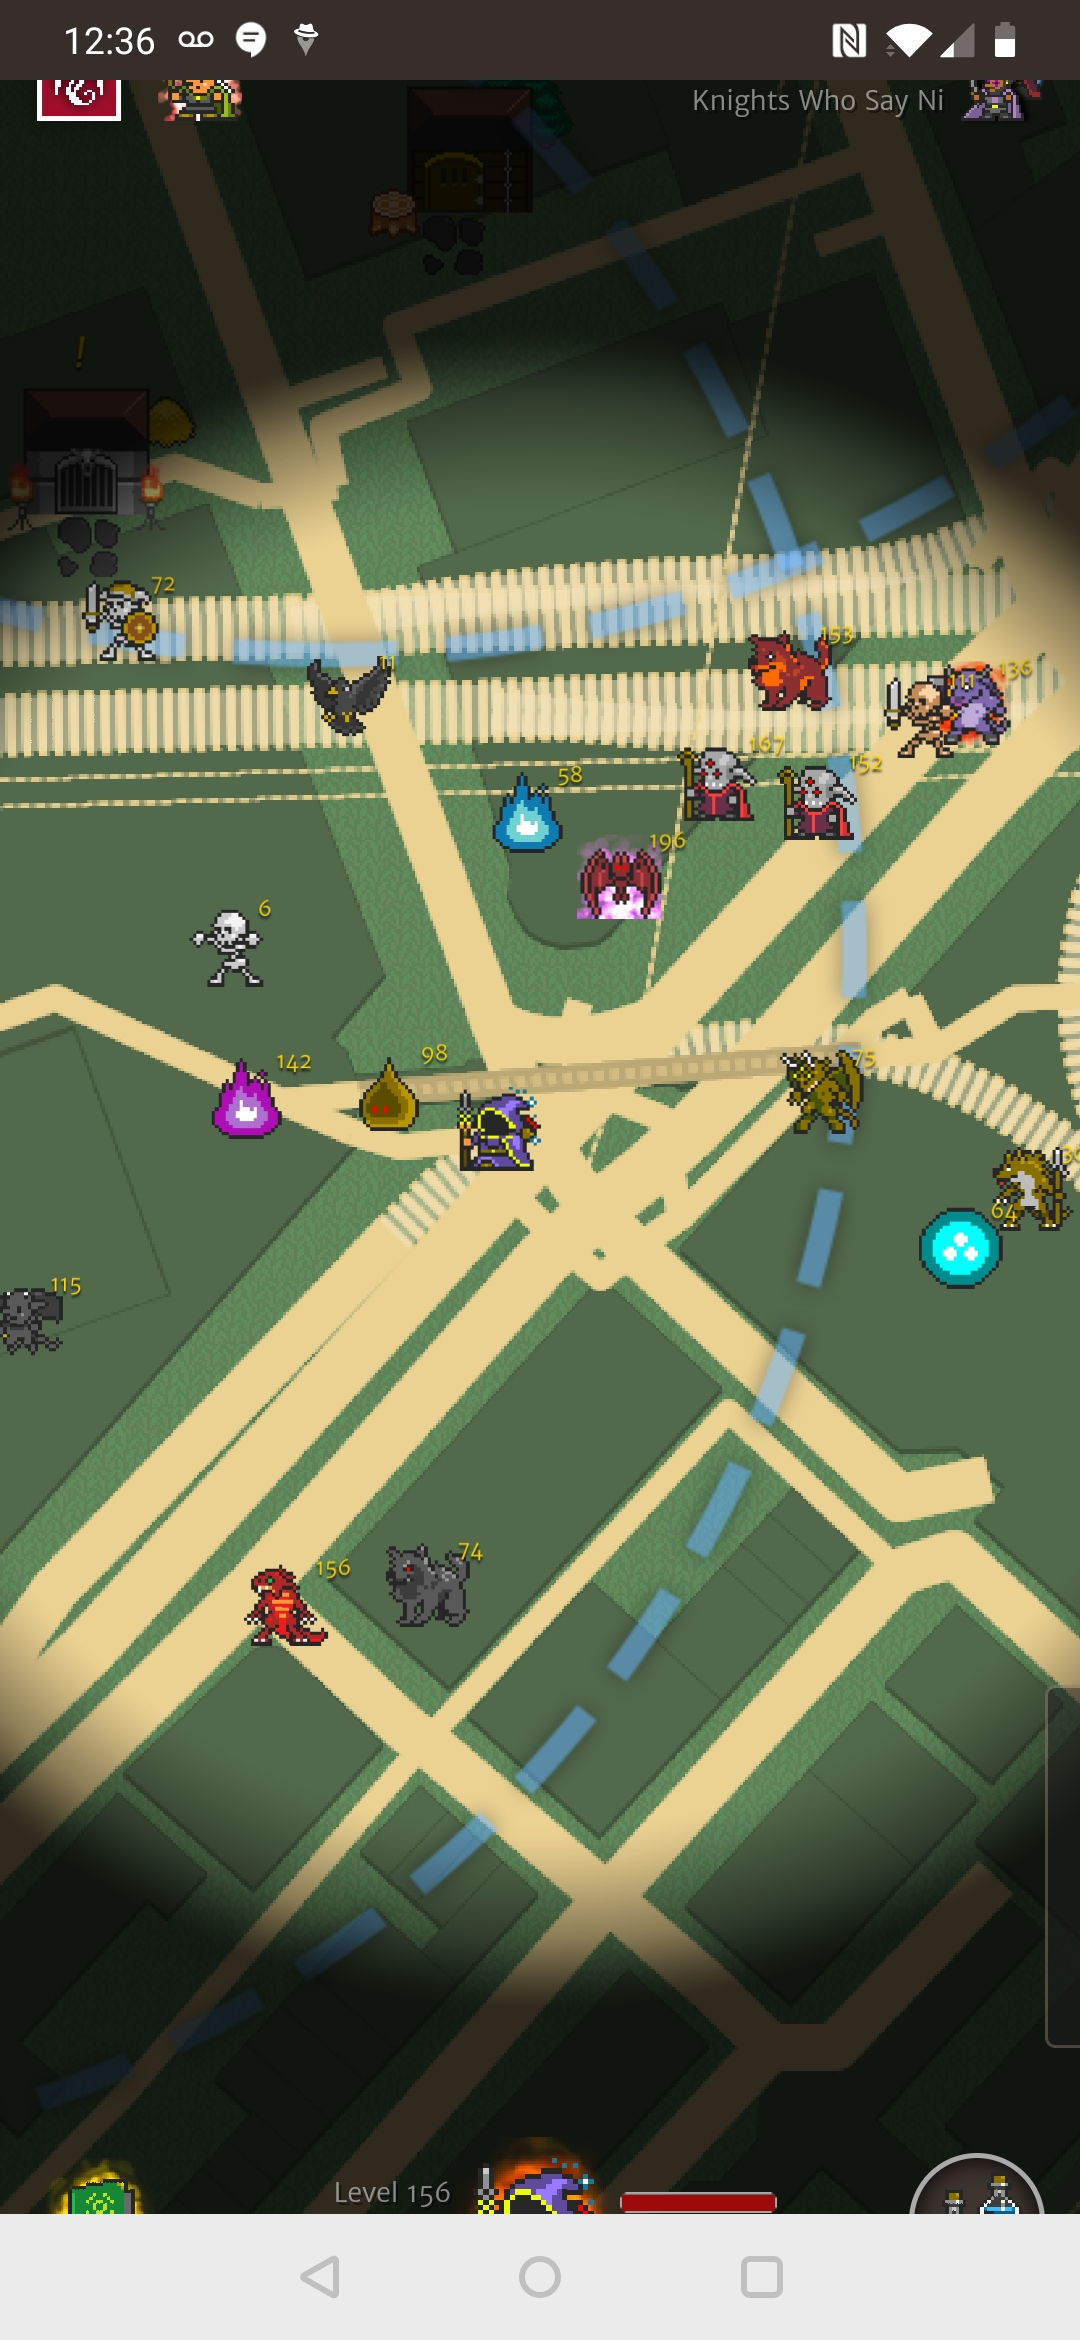monster: (182, 1050, 322, 1156), (735, 613, 859, 726), (563, 834, 706, 928), (304, 654, 408, 777), (663, 736, 788, 832), (767, 760, 898, 852), (380, 1532, 490, 1642), (876, 662, 986, 770), (482, 760, 600, 858), (908, 1199, 1020, 1293), (86, 564, 178, 679), (339, 1044, 449, 1136), (786, 1046, 884, 1148), (939, 662, 1045, 752), (190, 901, 290, 997), (249, 1562, 349, 1656), (1, 1266, 94, 1356), (992, 1146, 1080, 1242)
player: (441, 1083, 545, 1191)
